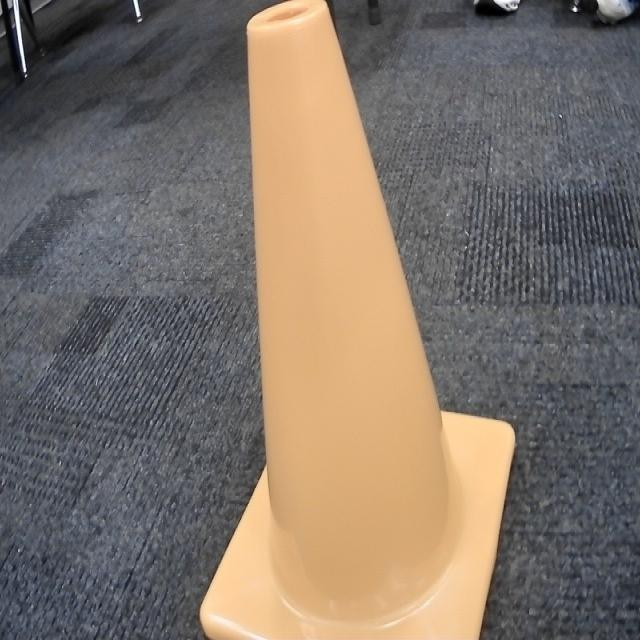cone: (194, 0, 518, 640)
